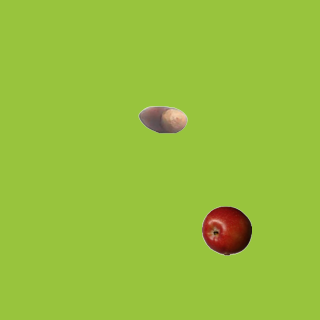Apple Braeburn: (201, 205, 251, 255)
Hazelnut: (137, 94, 187, 144)
